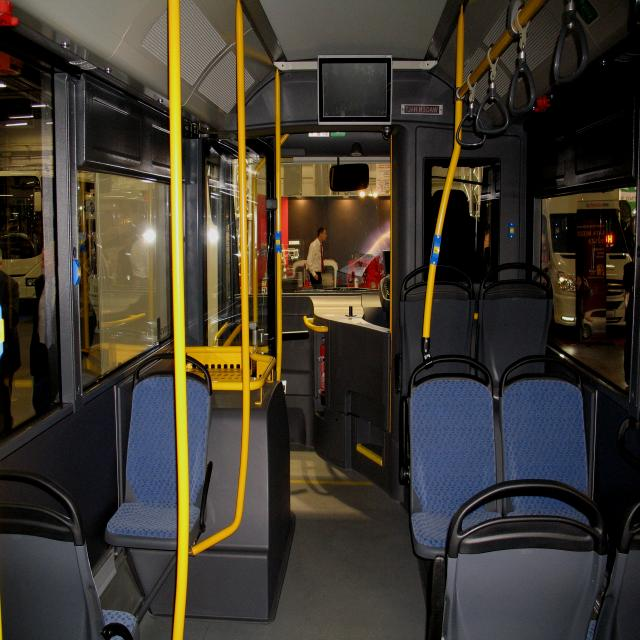asiento-libre: (440, 477, 610, 640), (0, 473, 146, 640), (100, 351, 214, 555), (400, 355, 510, 563), (104, 352, 213, 552), (498, 356, 604, 561), (405, 352, 498, 560), (0, 466, 106, 640), (497, 354, 592, 532), (476, 263, 553, 402), (398, 265, 476, 400), (585, 500, 640, 640)
